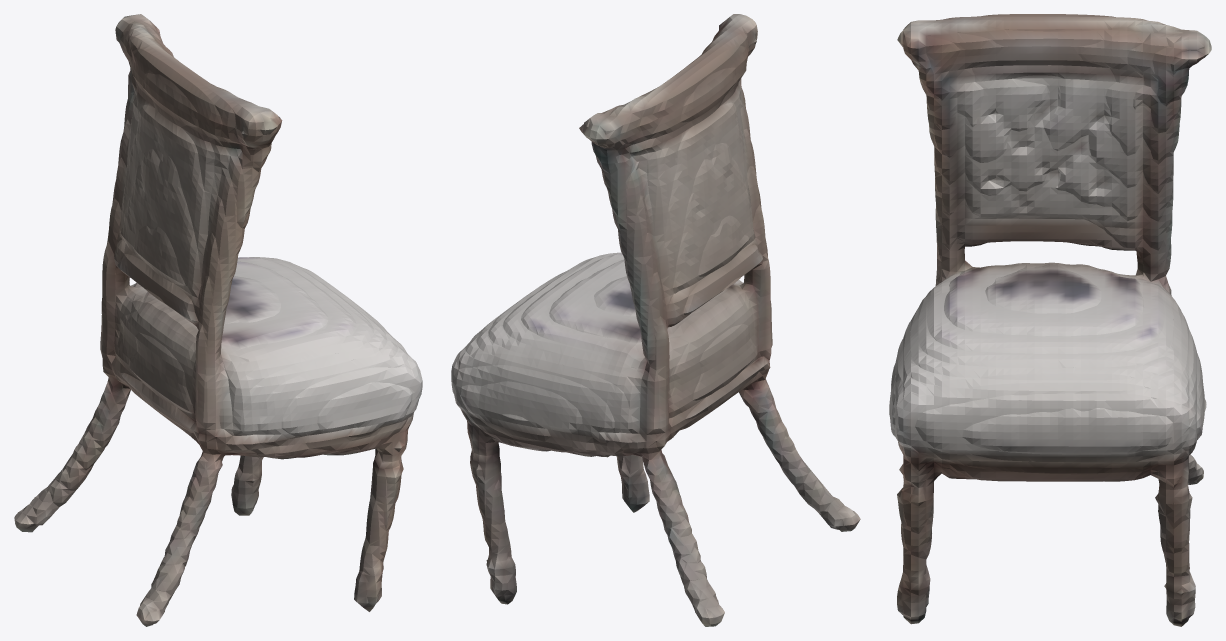
The model's file is chair-positive-winding.glb.
3 renders of one model, left to right at view 1: azimuth 30°, elevation 25°; view 2: azimuth 150°, elevation 25°; view 3: azimuth 270°, elevation 25°, orthographic. The views are drawn at different scales.
Parts seen in each view (by area): view 1: world; view 2: world; view 3: world.
Boxes of the visible parts, x1,y1,x2,y2 form: world: (14,14,422,626); world: (451,14,860,626); world: (889,14,1211,626).
Size of the model in its own units: 0.6135 by 1.07 by 0.5713.
